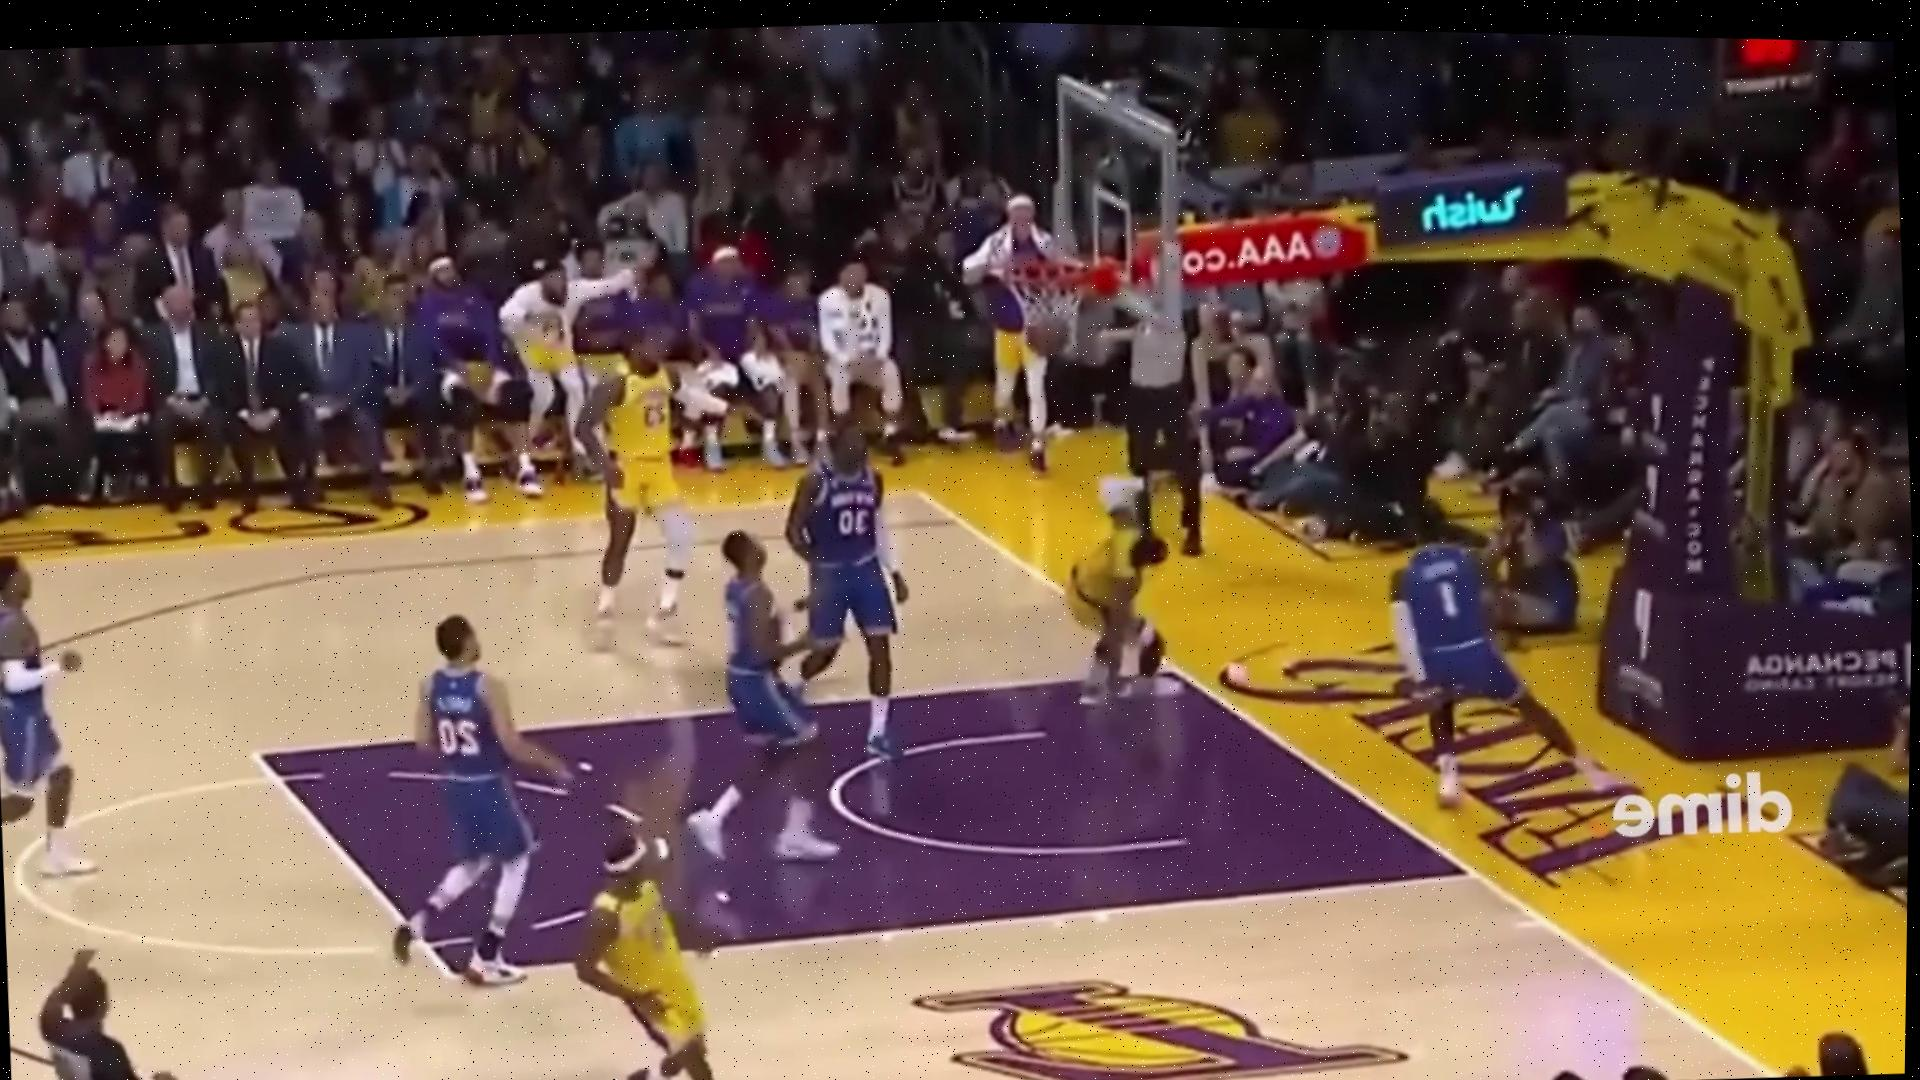no_foul: (342, 595, 744, 1080)
